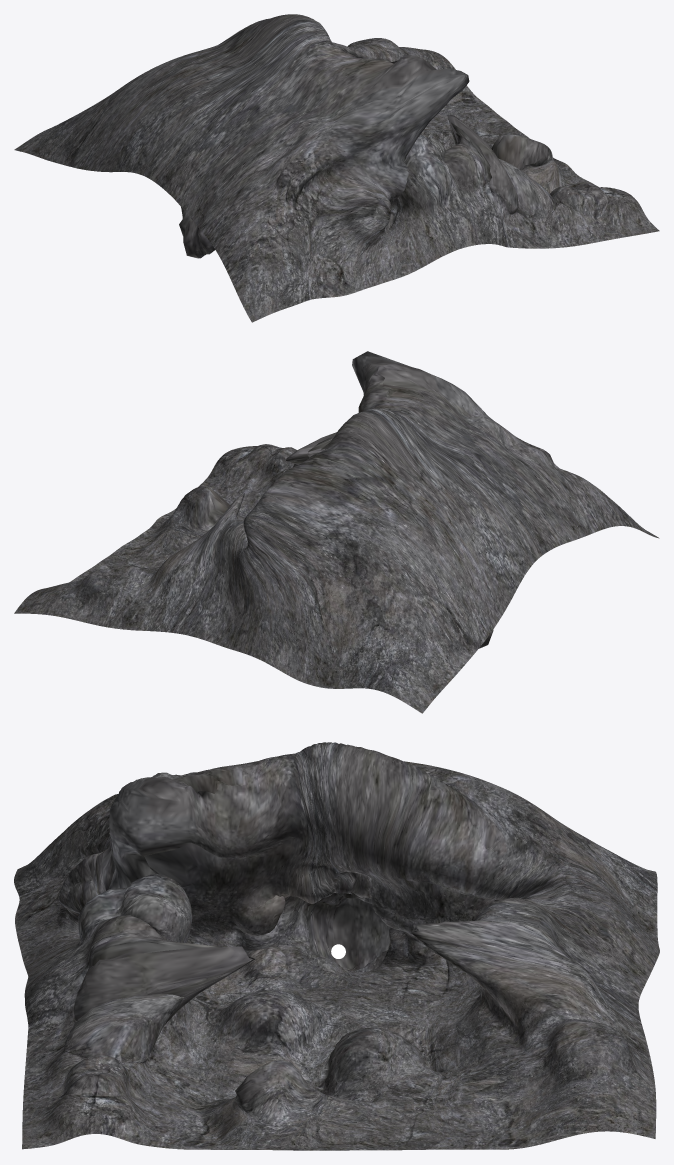
The model's file is land.glb.
3 views of the same model, one above another, from view 1: azimuth 30°, elevation 25°; view 2: azimuth 150°, elevation 25°; view 3: azimuth 270°, elevation 25° (orthographic). The views are drawn at different scales.
Parts seen in each view (by area): view 1: Plane; view 2: Plane; view 3: Plane.
Boxes of the visible parts, bbox=[...] form: Plane: bbox=[14, 14, 659, 322]; Plane: bbox=[14, 351, 659, 713]; Plane: bbox=[14, 742, 659, 1150].
Size of what is drawn, in the model's own units: 8.67 by 4.31 by 8.8.
Materials: 2 (1 with a texture image).
